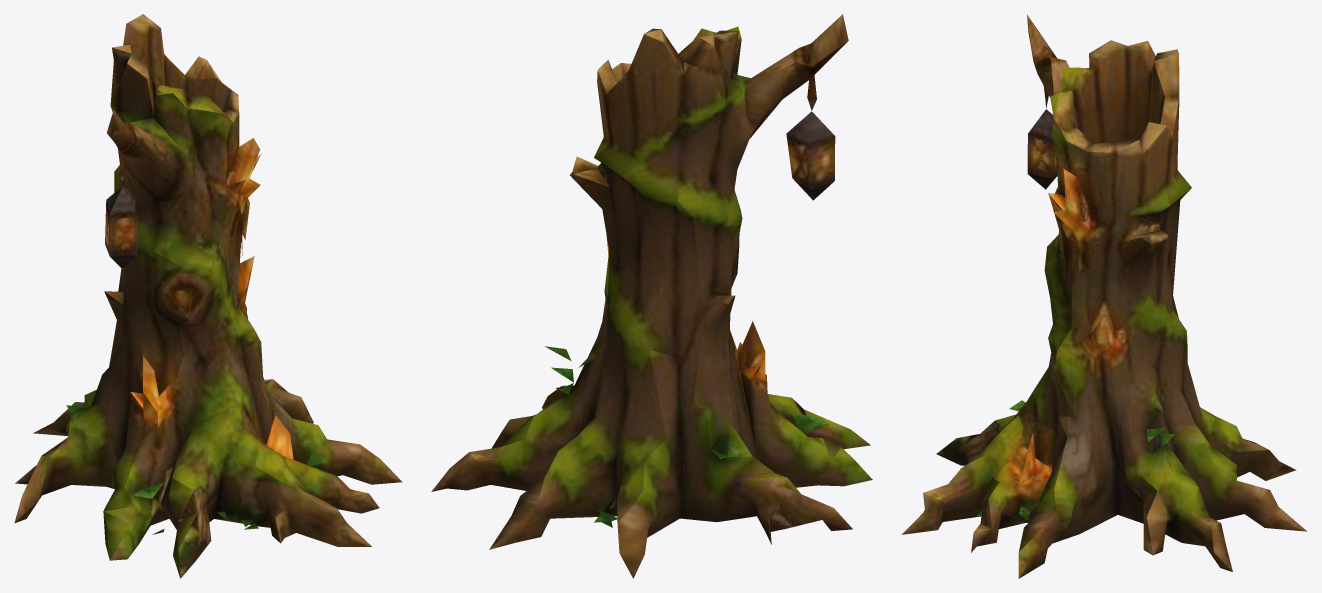
The model's file is d_racines_repere.glb.
3 renders of one model, left to right at view 1: azimuth 30°, elevation 25°; view 2: azimuth 150°, elevation 25°; view 3: azimuth 270°, elevation 25°, orthographic. The views are drawn at different scales.
Visible parts, largest first — view 1: geometry_0; view 2: geometry_0; view 3: geometry_0.
Part boxes in pixels (left/top/right/bottom): geometry_0: left=14, top=14, right=402, bottom=578; geometry_0: left=431, top=14, right=872, bottom=578; geometry_0: left=901, top=14, right=1306, bottom=578.
Size of the model in its own units: 0.7855 by 1 by 0.834.
1 material, 1 textured.
